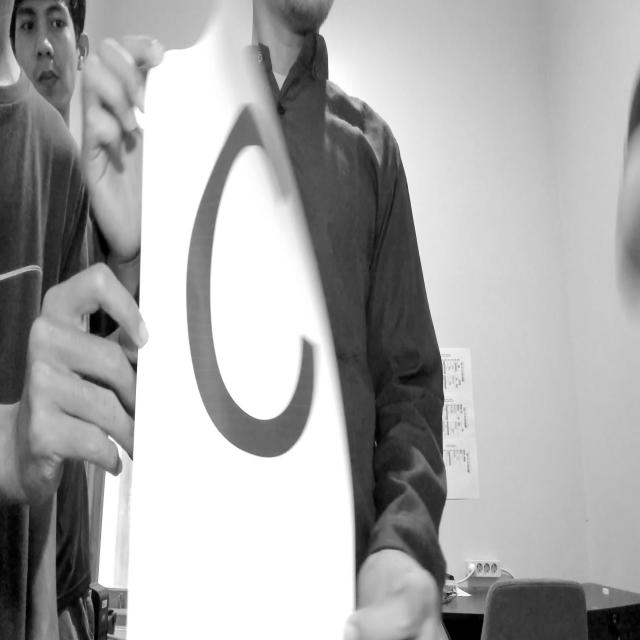c: (172, 87, 342, 482)
